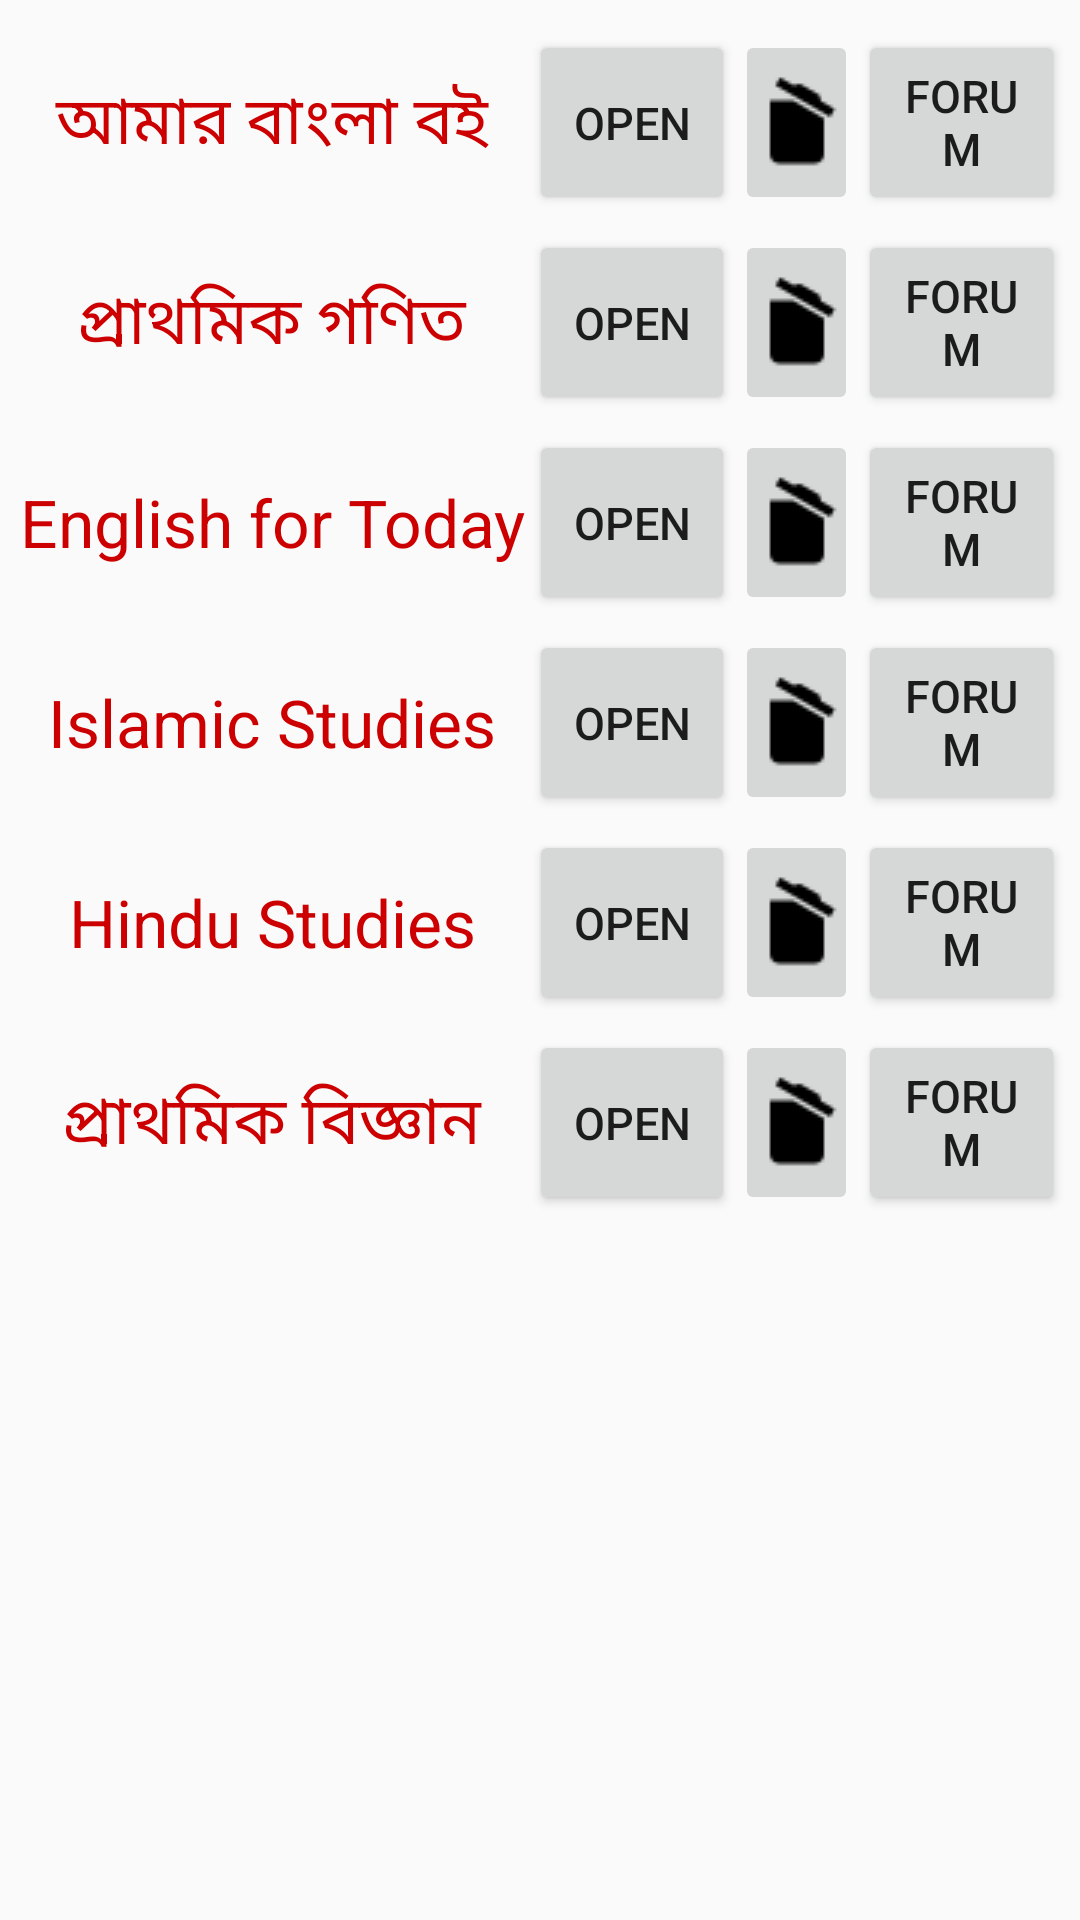

Where to tap for icons on this 1080×1920 app screen, as (x,y):
delete: (796,122), (796,322), (796,522), (796,722), (796,922), (796,1122)
